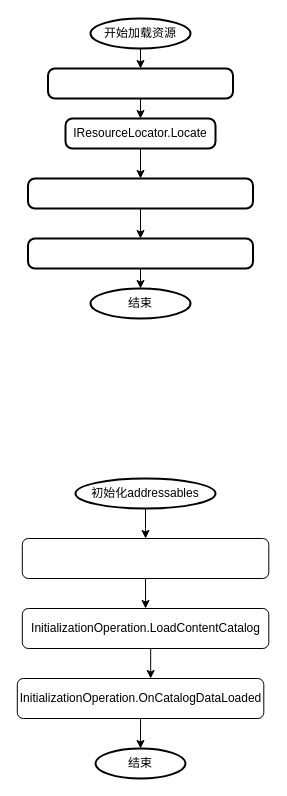
This 287x796 diagram has some shape labels left out. Here are the shapes that lost their labels. From the top down, the centre of each, then its label:
(140,83): Addressables.LoadAssetAsync
(140,193): ResourceManager.GetResourceProvider
(140,253): IResourceProvider.Provide
(145,558): AddressablesImpl.LoadContentCatalogAsync
